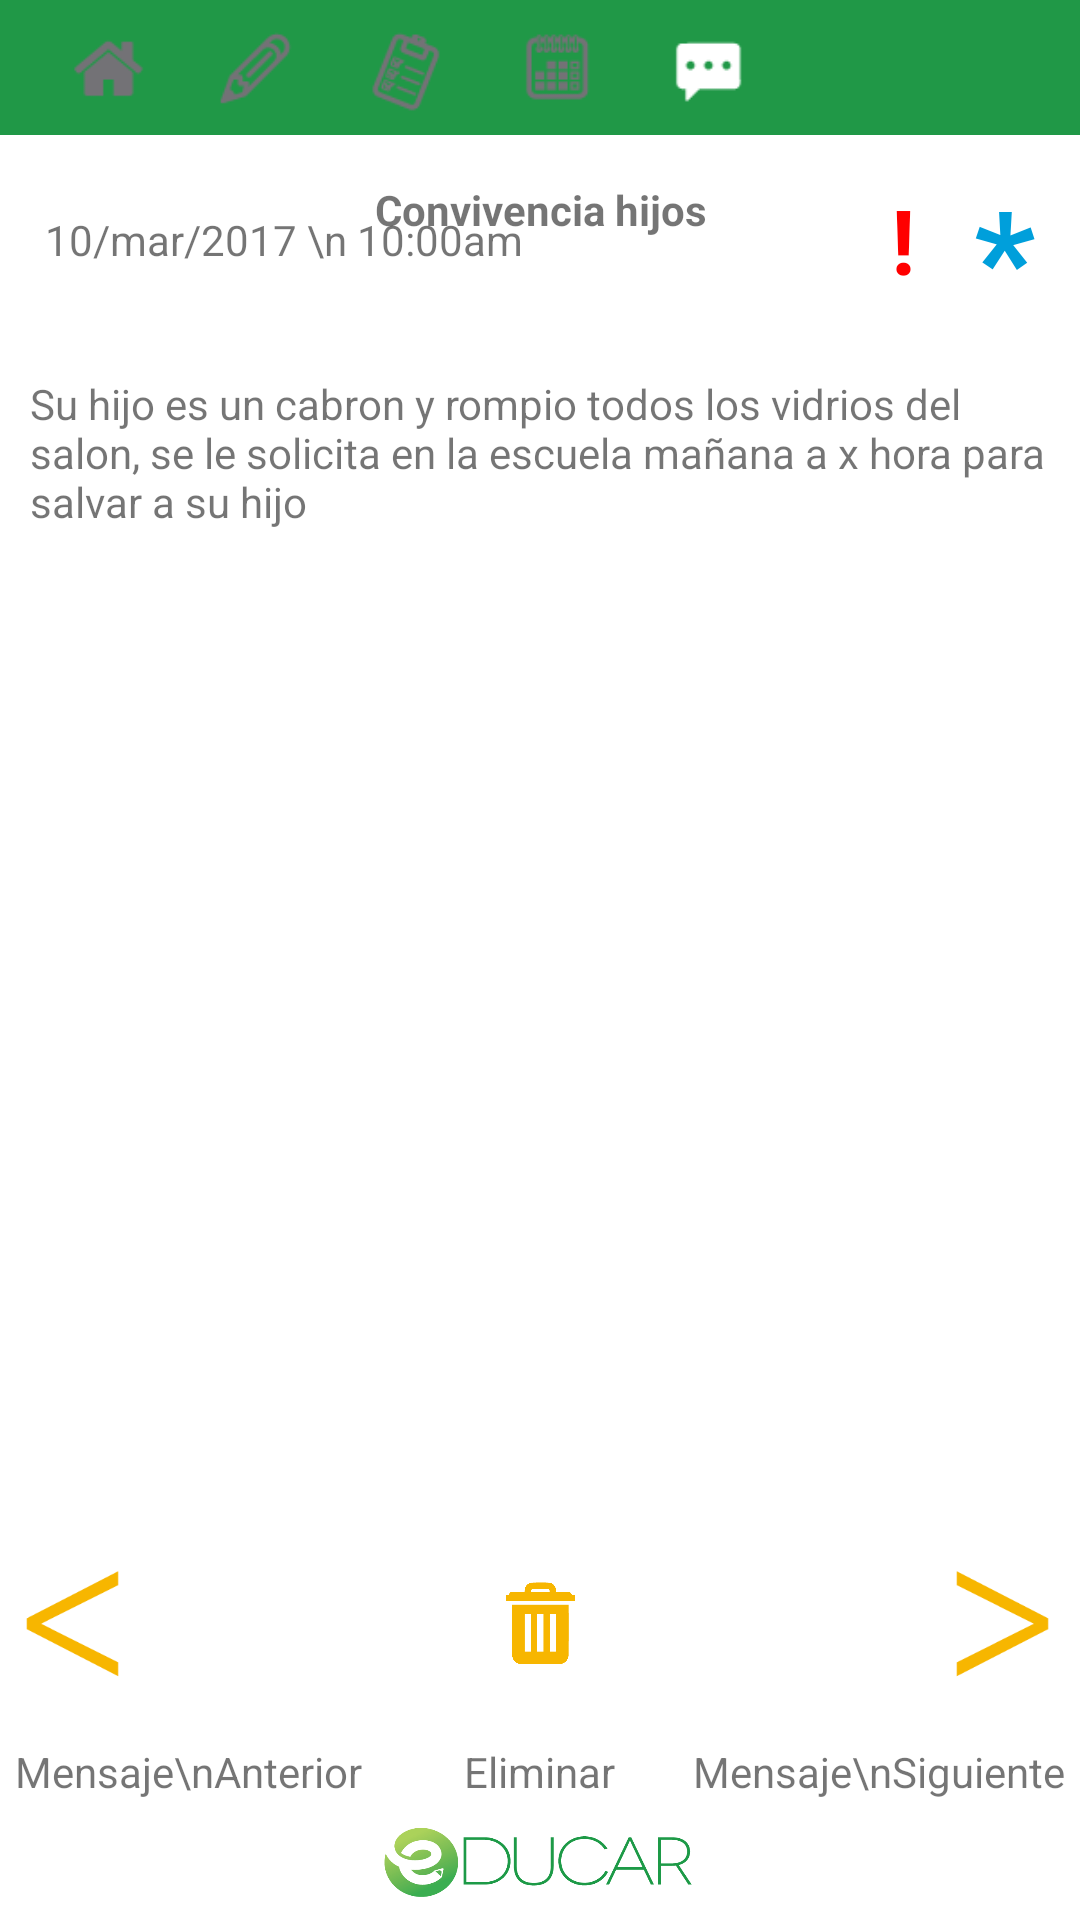

Named icons in this screenshot (1080×1920) and their bounding boxes, (x1, y1, x2, y2):
arrowleft: (26, 1571, 119, 1676)
arrowright: (956, 1571, 1049, 1676)
trash: (506, 1582, 575, 1664)
